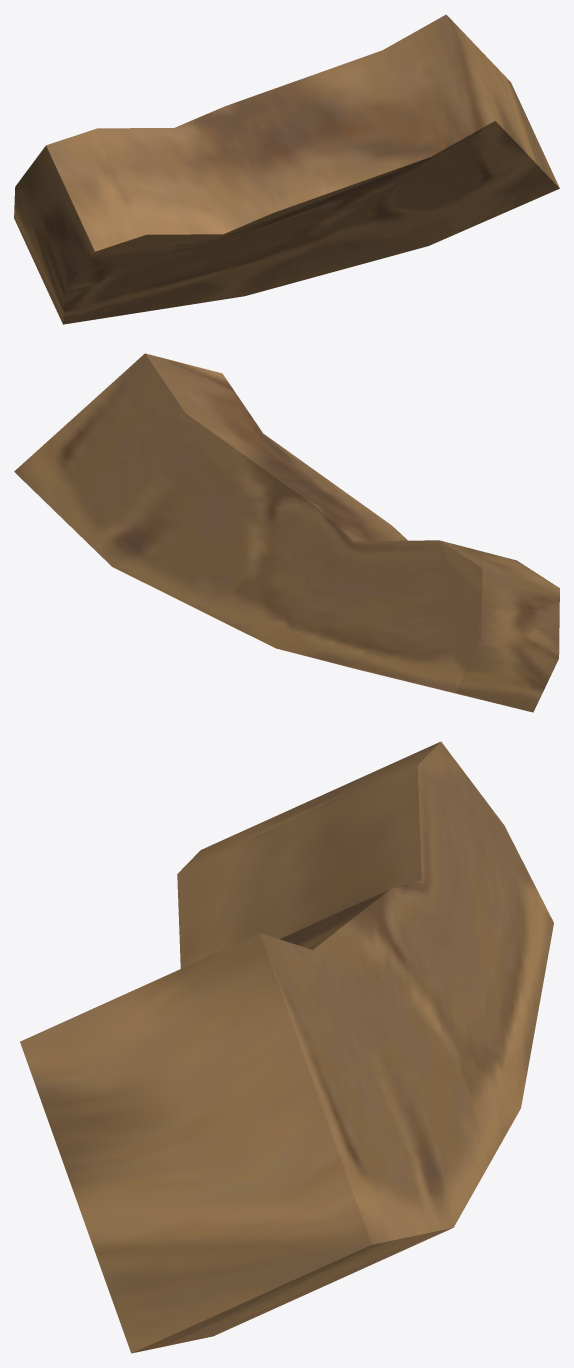
File: sm_dixing_4.FBX
The picture shows the model from 3 angles, top to bottom: view 1: azimuth 30°, elevation 25°; view 2: azimuth 150°, elevation 25°; view 3: azimuth 270°, elevation 25°; orthographic projection. The views are drawn at different scales.
Visible parts, largest first — view 1: sm_dixing_4; view 2: sm_dixing_4; view 3: sm_dixing_4.
Part boxes in pixels (x1=…): sm_dixing_4: x1=14, y1=14, x2=559, y2=324; sm_dixing_4: x1=14, y1=353, x2=559, y2=712; sm_dixing_4: x1=20, y1=741, x2=553, y2=1353.
Size of the model in its own units: 822 by 394 by 402.
